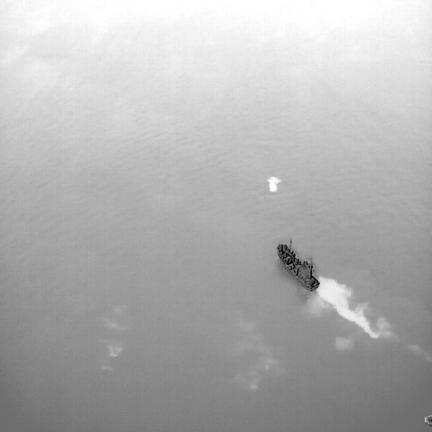flukeprints: (267, 176, 280, 192)
